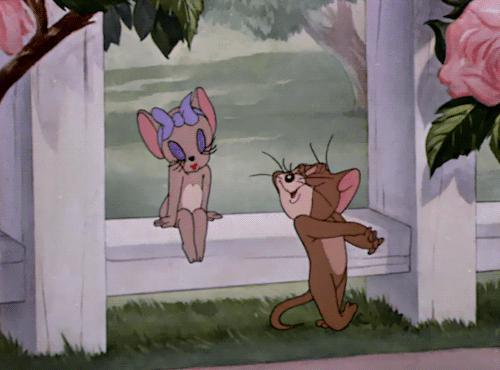jerry: (250, 134, 386, 331)
